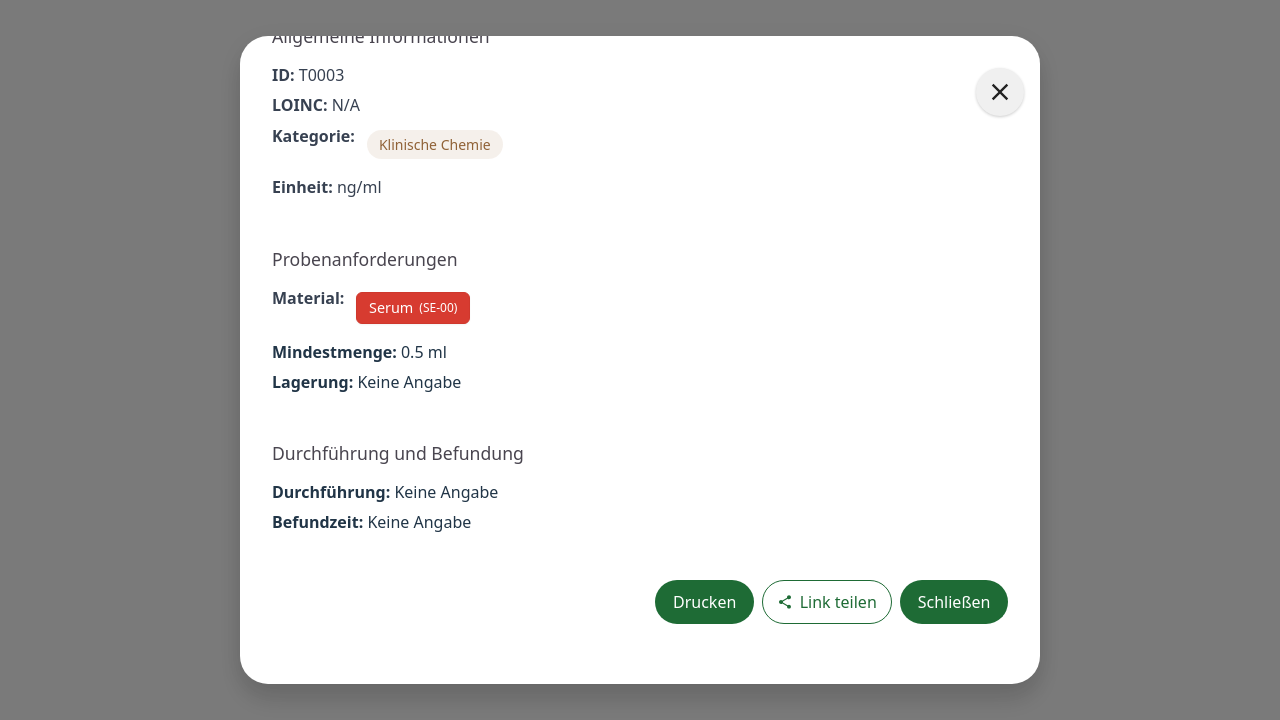
Scenario: Detailansicht als Dialog › „Link teilen“ übergibt die Adresse des Tests an navigator.share bzw. die Zwischenablage
This screenshot has width=1280, height=720.
(page scrolled)
Click the button with aria-label "Link zu Digoxin teilen" at (827, 602), box [762,580,892,624]
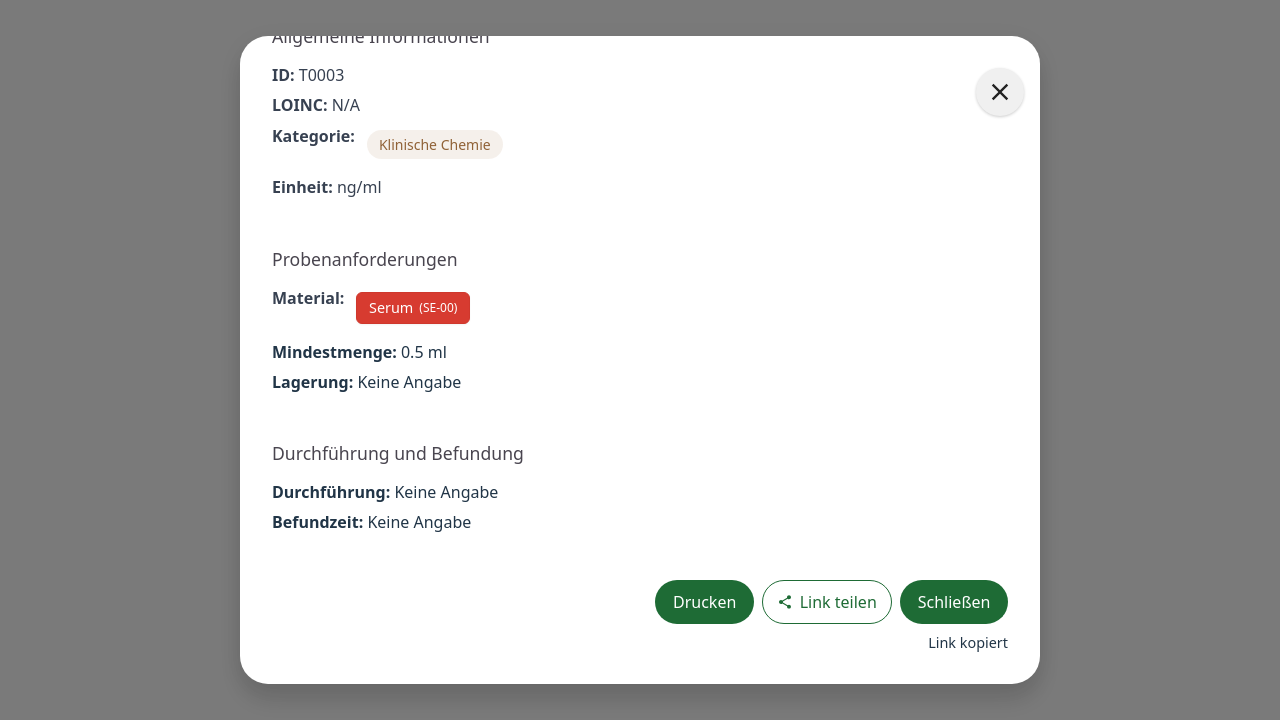
Expected: the message reads "Link kopiert", [928,633,1008,652]
